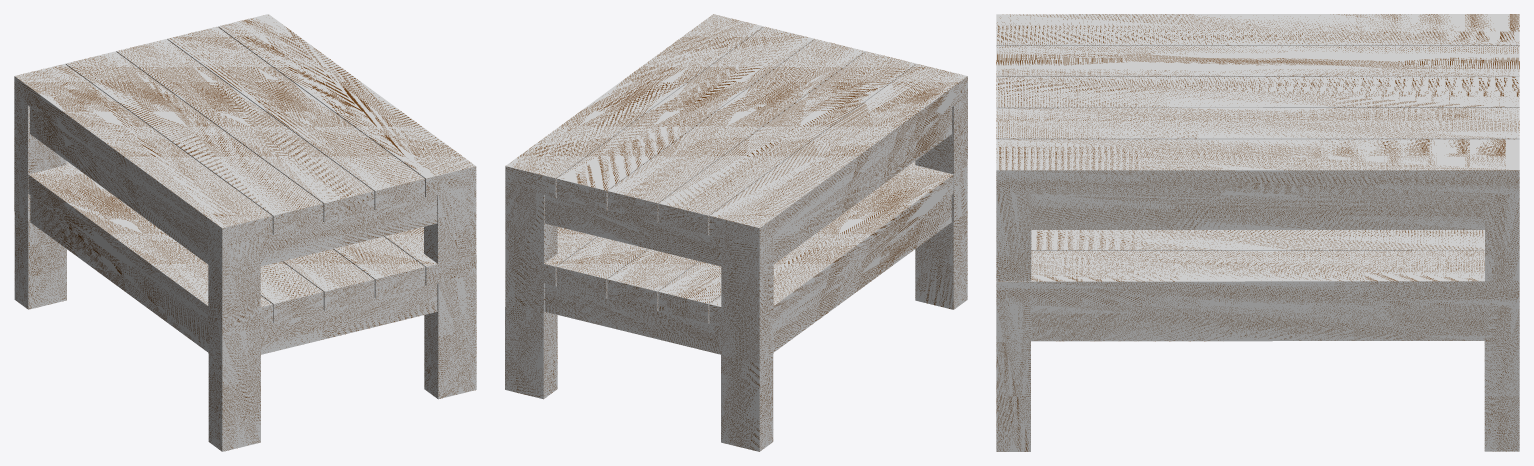
3 views of the same model, side by side, from view 1: azimuth 30°, elevation 25°; view 2: azimuth 150°, elevation 25°; view 3: azimuth 270°, elevation 25° (orthographic). The views are drawn at different scales.
Visible parts, largest first — view 1: group_0.001, group_0; view 2: group_0.001, group_0; view 3: group_0.001, group_0.
Boxes of the visible parts, <box> form: group_0.001: <box>14,14,476,363</box>; group_0: <box>14,161,476,451</box>; group_0.001: <box>505,14,967,363</box>; group_0: <box>505,161,967,451</box>; group_0.001: <box>996,14,1519,340</box>; group_0: <box>996,230,1519,451</box>.
Size of the model in its own units: 0.276 by 0.3907 by 0.2319.
